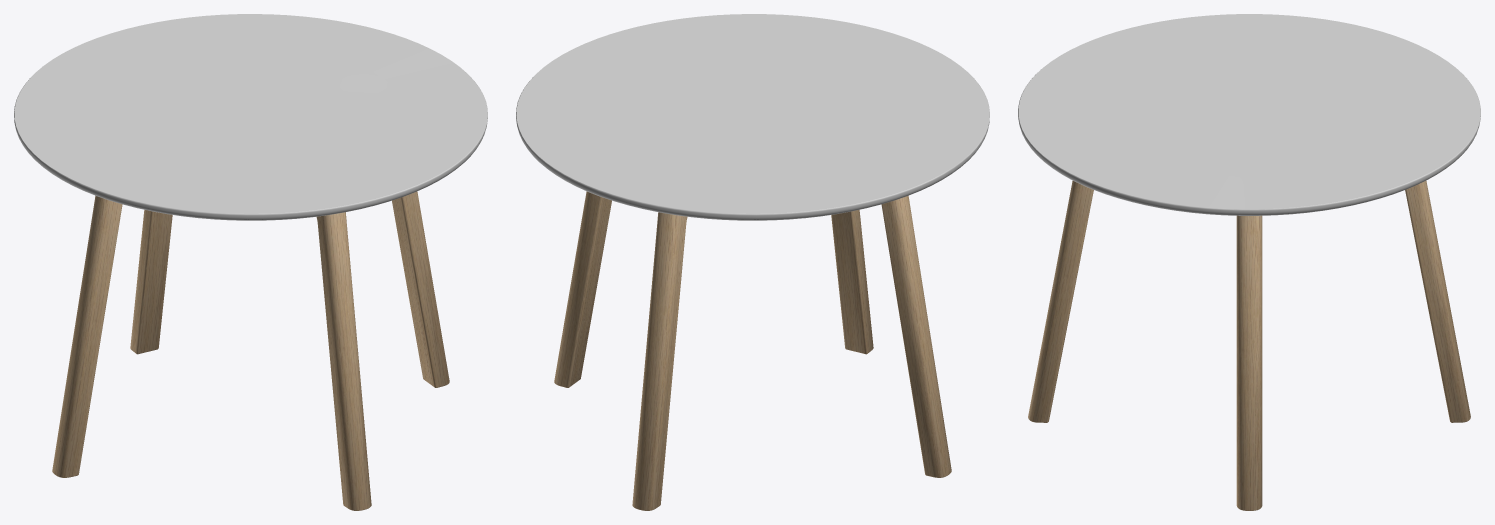
File: BGID02330.glb
3 renders of one model, left to right at view 1: azimuth 30°, elevation 25°; view 2: azimuth 150°, elevation 25°; view 3: azimuth 270°, elevation 25°, orthographic. The views are drawn at different scales.
Parts seen in each view (by area): view 1: BP_BGID02330; view 2: BP_BGID02330; view 3: BP_BGID02330.
Part boxes in pixels (bbox=[...]): BP_BGID02330: bbox=[14, 14, 487, 510]; BP_BGID02330: bbox=[516, 14, 989, 510]; BP_BGID02330: bbox=[1018, 14, 1480, 510].
Size of the model in its own units: 0.9974 by 0.728 by 0.9974.
Materials: 3 (1 with a texture image).
